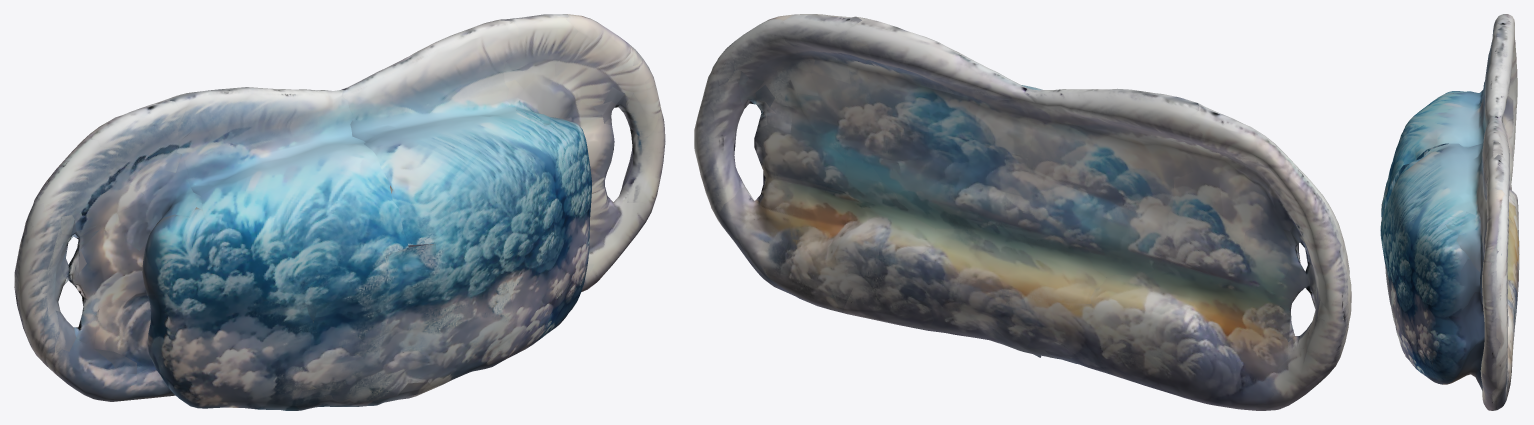
File: 天堂奇特物.fbx
The picture shows the model from 3 angles, left to right: view 1: azimuth 30°, elevation 25°; view 2: azimuth 150°, elevation 25°; view 3: azimuth 270°, elevation 25°; orthographic projection. The views are drawn at different scales.
Visible parts, largest first — view 1: 天堂奇特物; view 2: 天堂奇特物; view 3: 天堂奇特物.
Part boxes in pixels (x1,y1,x2,y2): 天堂奇特物: [14, 14, 665, 410]; 天堂奇特物: [694, 14, 1351, 410]; 天堂奇特物: [1380, 14, 1519, 410].
Bounding box in the file's own units: 101 × 23.96 × 46.98.
1 material, 1 textured.
